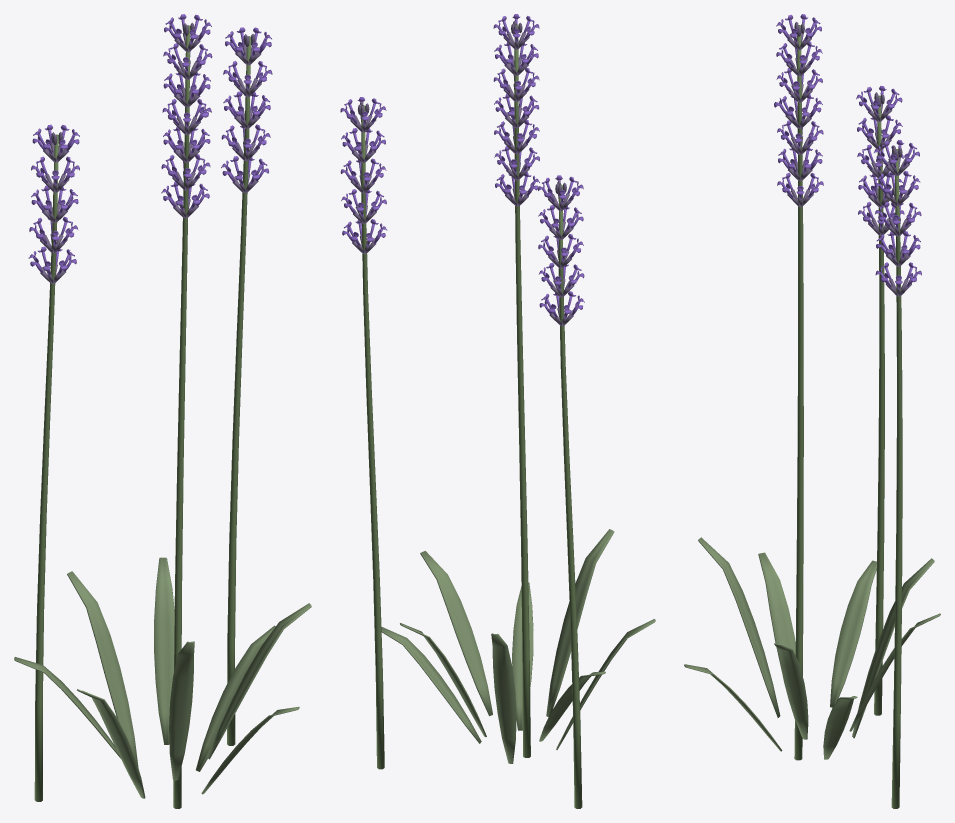
The model's file is flower-lavandula.glb.
The picture shows the model from 3 angles, left to right: view 1: azimuth 30°, elevation 25°; view 2: azimuth 150°, elevation 25°; view 3: azimuth 270°, elevation 25°; orthographic projection. The views are drawn at different scales.
Parts seen in each view (by area): view 1: leaves, stems, spike_florets_bg, spike_florets; view 2: stems, leaves, spike_florets_bg, spike_florets; view 3: stems, leaves, spike_florets_bg, spike_florets.
Boxes of the visible parts, x1,y1,x2,y2 form: leaves: (14,557,311,798); stems: (34,25,250,808); spike_florets_bg: (28,27,272,283); spike_florets: (161,14,212,218); stems: (361,24,582,808); leaves: (381,529,655,763); spike_florets_bg: (340,97,584,326); spike_florets: (493,14,539,206); stems: (794,25,902,808); leaves: (684,537,940,759); spike_florets_bg: (856,86,921,296); spike_florets: (776,14,823,207).
Size of the model in its own units: 6.63 by 18.55 by 5.82.
